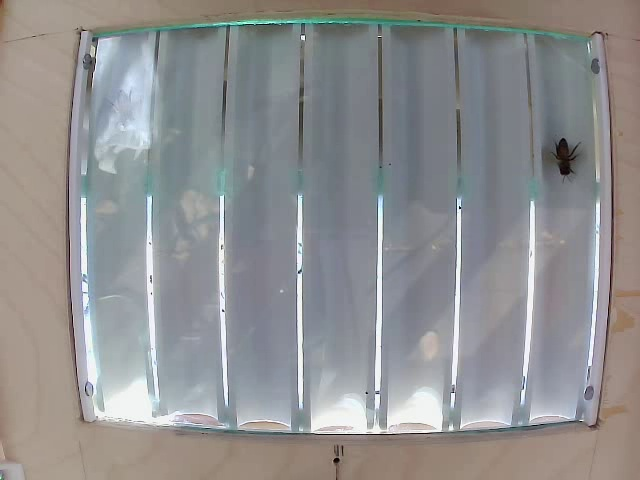bee: (546, 137, 582, 193)
